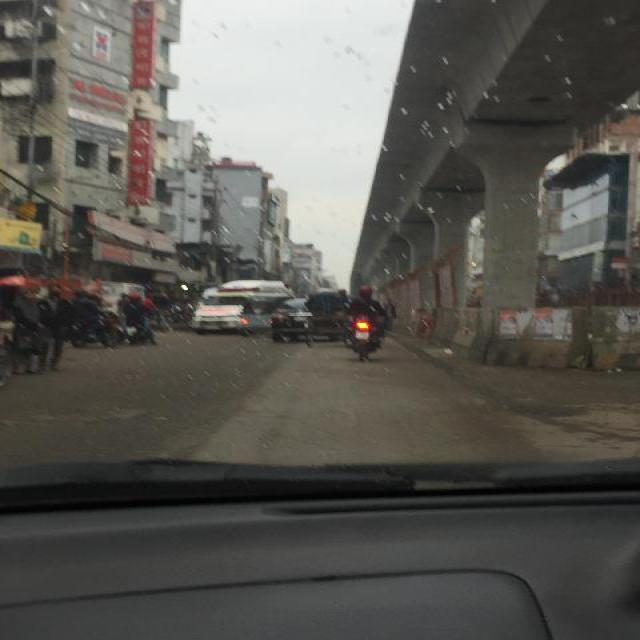ambulance: (191, 280, 276, 330)
car: (272, 297, 309, 343)
motorbike: (74, 311, 122, 345), (348, 312, 383, 358), (124, 313, 151, 343)
rickshaw: (307, 288, 346, 340)
three wheelers -CNG-: (239, 292, 281, 332)
